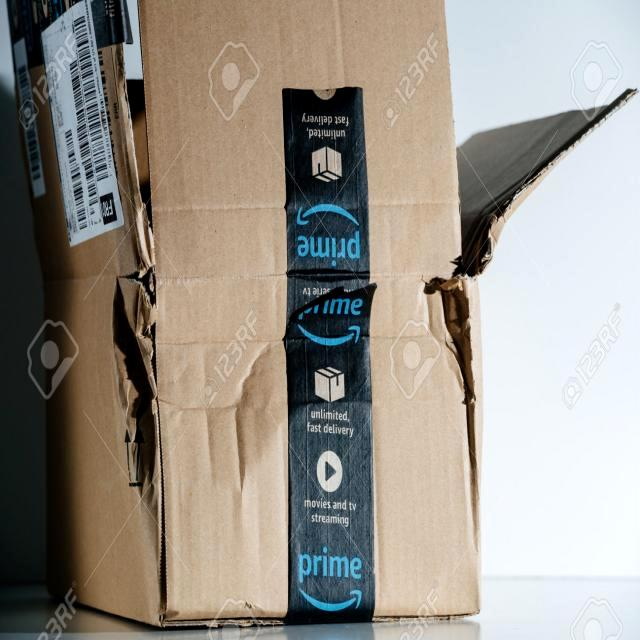Cardboard Box: (1, 1, 640, 640)
cut: (426, 280, 476, 534), (114, 273, 156, 500)
